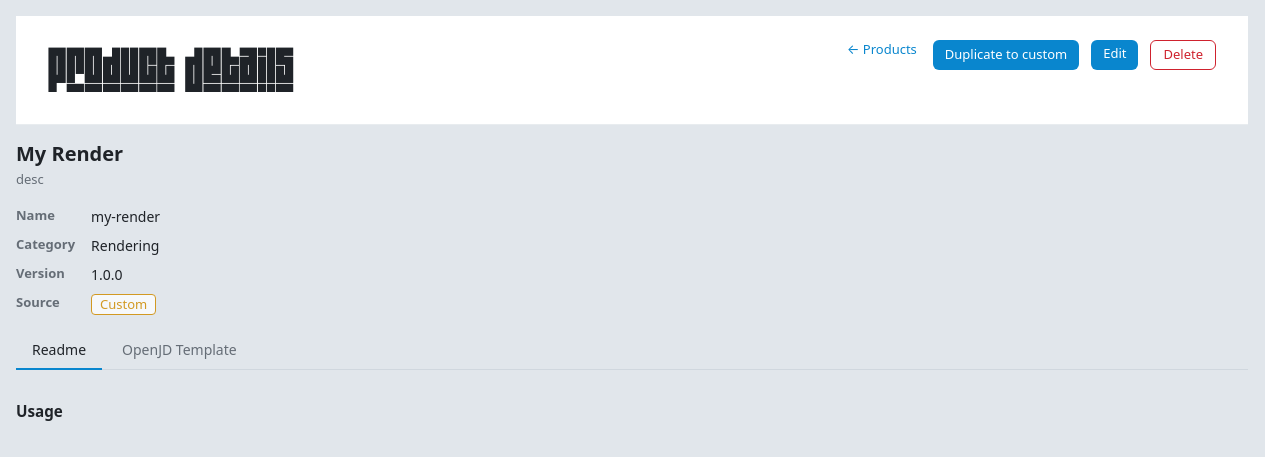
it: ProductDetail readme/template tabs › swaps the panel when another tab is clicked
Check: the heading "Usage" is shown, box [16,401,63,421]
Click the tab "OpenJD Template".
click(179, 350)  # box [106,331,253,370]
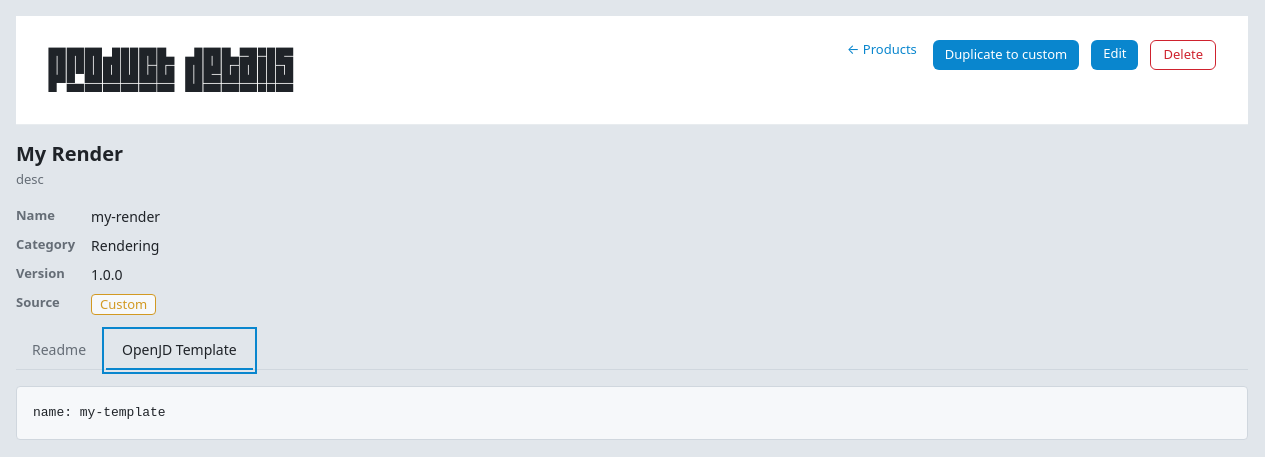
Check: the text "name: my-template" is shown, box [16,386,1248,440]
Check: the heading "Usage" is gone
